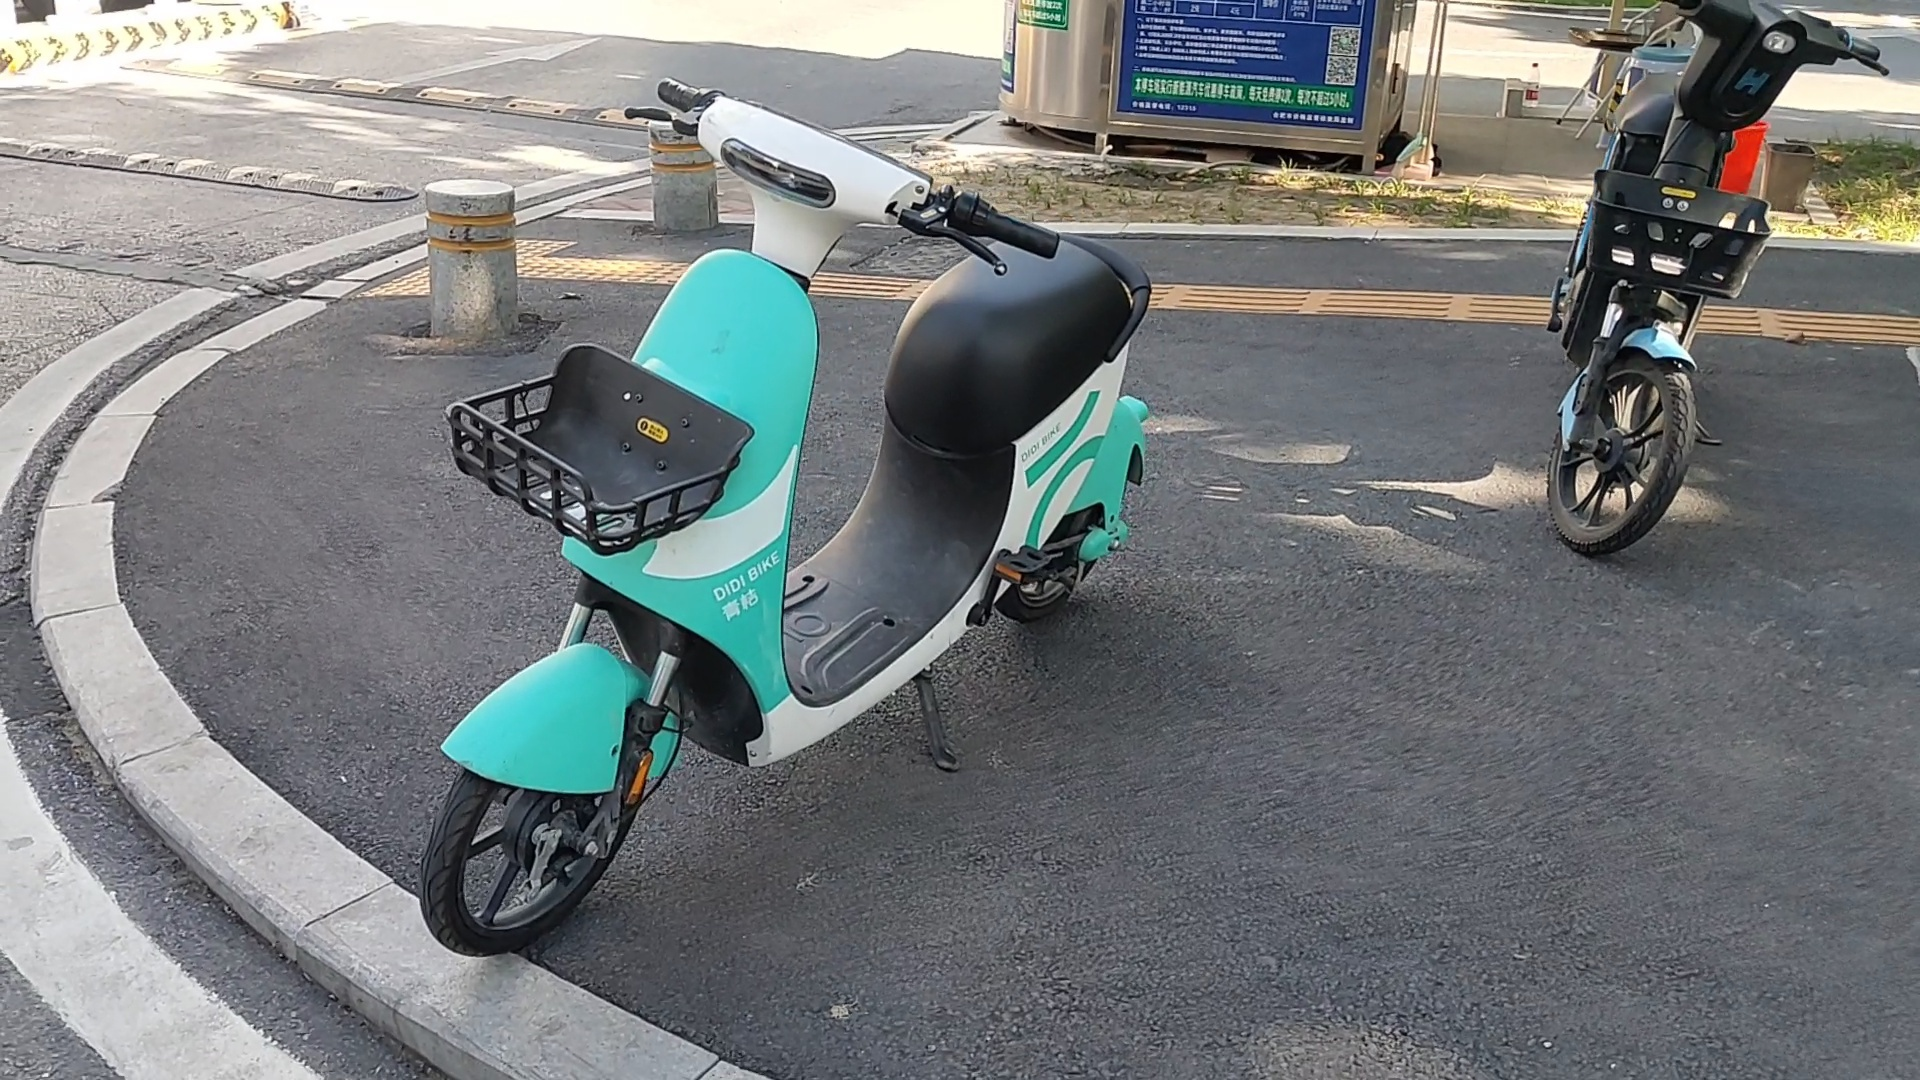non-vehicle: (422, 66, 1160, 996), (1524, 0, 1873, 553)
